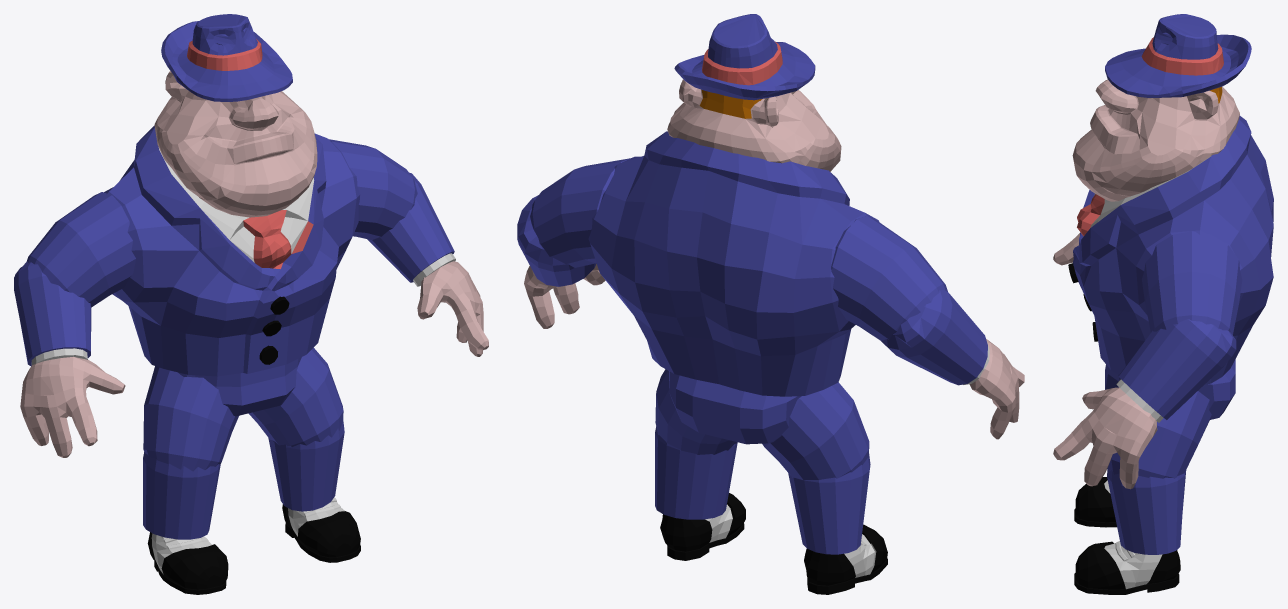
3 renders of one model, left to right at view 1: azimuth 30°, elevation 25°; view 2: azimuth 150°, elevation 25°; view 3: azimuth 270°, elevation 25°, orthographic. The views are drawn at different scales.
Parts seen in each view (by area): view 1: Body, Head, RightLowerArm, RightLowerLeg, Hat, RightUpperArm, LeftLowerLeg, LeftLowerArm, RightUpperLeg, LeftUpperLeg, LeftUpperArm; view 2: Body, Head, RightUpperArm, RightLowerLeg, RightLowerArm, LeftLowerLeg, Hat, RightUpperLeg, LeftUpperArm, LeftLowerArm, LeftUpperLeg; view 3: Body, Head, LeftLowerArm, LeftLowerLeg, Hat, LeftUpperArm, LeftUpperLeg, RightLowerLeg, RightLowerArm.
Boxes of the visible parts, box(x1,y1,x2,y2) form: Body: box(104, 125, 359, 416); Head: box(154, 71, 317, 217); RightLowerArm: box(14, 261, 125, 457); RightLowerLeg: box(143, 452, 228, 594); Hat: box(161, 14, 292, 101); RightUpperArm: box(26, 192, 135, 307); LeftLowerLeg: box(268, 421, 360, 562); LeftLowerArm: box(367, 172, 488, 356); RightUpperLeg: box(143, 366, 238, 471); LeftUpperLeg: box(248, 347, 343, 446); LeftUpperArm: box(329, 139, 417, 239); Body: box(588, 131, 879, 444); Head: box(667, 79, 841, 171); RightUpperArm: box(831, 215, 947, 340); RightLowerLeg: box(788, 454, 887, 594); RightLowerArm: box(881, 290, 1024, 439); LeftLowerLeg: box(655, 426, 745, 560); Hat: box(674, 14, 815, 100); RightUpperLeg: box(762, 382, 869, 480); LeftUpperArm: box(530, 158, 630, 267); LeftLowerArm: box(517, 195, 605, 328); LeftUpperLeg: box(655, 369, 736, 454); Body: box(1068, 115, 1273, 419); Head: box(1072, 79, 1239, 201); LeftLowerArm: box(1053, 319, 1236, 489); LeftLowerLeg: box(1074, 468, 1186, 594); Hat: box(1105, 14, 1251, 97); LeftUpperArm: box(1141, 231, 1242, 334); LeftUpperLeg: box(1107, 386, 1211, 478); RightLowerLeg: box(1074, 477, 1116, 527); RightLowerArm: box(1053, 233, 1079, 265).
Size of the model in its own units: 5.42 by 5.89 by 2.22.
